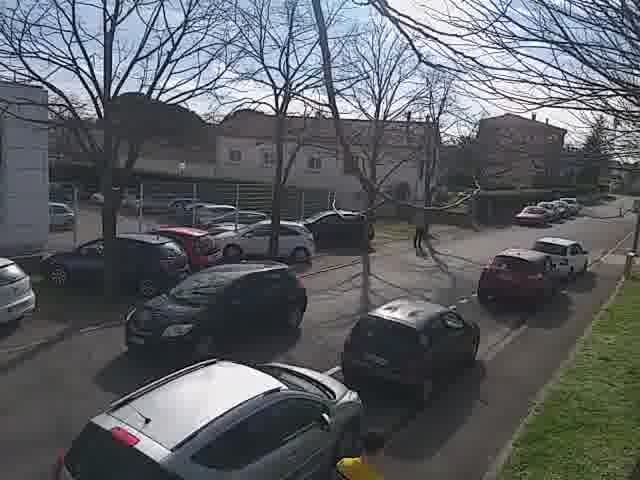persona: (408, 198, 428, 249)
